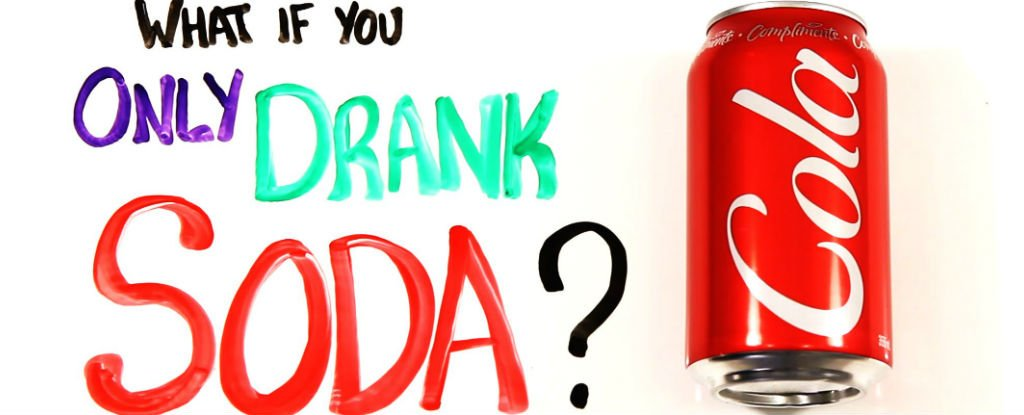can: (671, 5, 904, 415)
